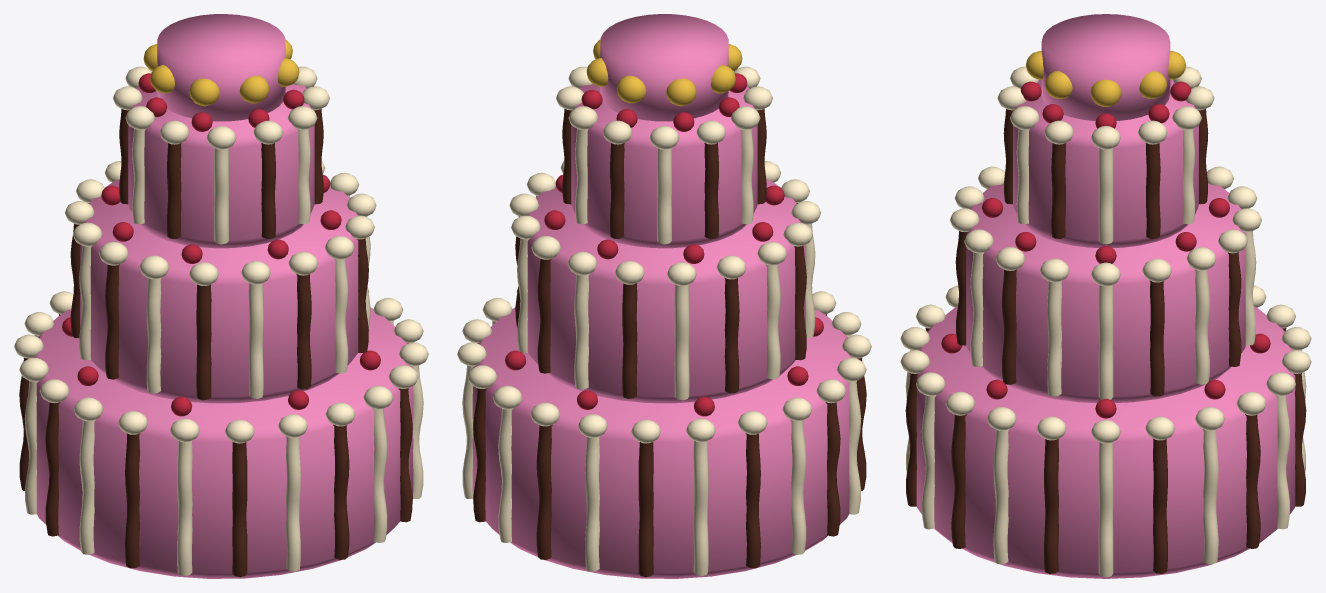
File: marzipan-mascarpone-meringue-madness.glb
The picture shows the model from 3 angles, left to right: view 1: azimuth 30°, elevation 25°; view 2: azimuth 150°, elevation 25°; view 3: azimuth 270°, elevation 25°; orthographic projection.
Parts seen in each view (by area): view 1: edible_meringue_tier, edible_meringue_tier.001, edible_meringue_tier.002, edible_topper, edible_meringue_ribbon.015, edible_meringue_ribbon.014, edible_meringue_ribbon.016, edible_meringue_ribbon.013, edible_meringue_ribbon.017, edible_meringue_ribbon.012, edible_meringue_ribbon.033, edible_meringue_ribbon.034 (+51 smaller); view 2: edible_meringue_tier, edible_meringue_tier.001, edible_meringue_tier.002, edible_topper, edible_meringue_ribbon.007, edible_meringue_ribbon.008, edible_meringue_ribbon.006, edible_meringue_ribbon.009, edible_meringue_ribbon.005, edible_meringue_ribbon.010, edible_meringue_ribbon.028, edible_meringue_ribbon.027 (+51 smaller); view 3: edible_meringue_tier, edible_meringue_tier.001, edible_meringue_tier.002, edible_topper, edible_meringue_ribbon, edible_meringue_ribbon.001, edible_meringue_ribbon.021, edible_meringue_ribbon.002, edible_meringue_ribbon.020, edible_meringue_ribbon.022, edible_meringue_ribbon.003, edible_meringue_ribbon.019 (+49 smaller).
Boxes of the visible parts, box(x1,y1,x2,y2) form: edible_meringue_tier: box(33, 307, 413, 578); edible_meringue_tier.001: box(80, 180, 358, 403); edible_meringue_tier.002: box(128, 84, 314, 248); edible_topper: box(157, 14, 285, 121); edible_meringue_ribbon.015: box(232, 442, 247, 577); edible_meringue_ribbon.014: box(177, 440, 192, 575); edible_meringue_ribbon.016: box(286, 436, 300, 571); edible_meringue_ribbon.013: box(125, 433, 140, 568); edible_meringue_ribbon.017: box(333, 424, 349, 559); edible_meringue_ribbon.012: box(79, 419, 95, 554); edible_meringue_ribbon.033: box(196, 284, 211, 400); edible_meringue_ribbon.034: box(248, 283, 263, 398); edible_meringue_tier: box(472, 307, 852, 578); edible_meringue_tier.001: box(527, 180, 805, 403); edible_meringue_tier.002: box(571, 84, 757, 248); edible_topper: box(600, 14, 728, 121); edible_meringue_ribbon.007: box(638, 442, 653, 577); edible_meringue_ribbon.008: box(693, 440, 708, 575); edible_meringue_ribbon.006: box(585, 436, 599, 571); edible_meringue_ribbon.009: box(745, 433, 760, 568); edible_meringue_ribbon.005: box(536, 424, 552, 559); edible_meringue_ribbon.010: box(790, 419, 806, 554); edible_meringue_ribbon.028: box(674, 284, 689, 400); edible_meringue_ribbon.027: box(622, 283, 637, 398); edible_meringue_tier: box(916, 306, 1295, 578); edible_meringue_tier.001: box(966, 183, 1245, 402); edible_meringue_tier.002: box(1013, 79, 1198, 247); edible_topper: box(1041, 14, 1170, 120); edible_meringue_ribbon: box(1098, 442, 1113, 577); edible_meringue_ribbon.001: box(1153, 438, 1167, 573); edible_meringue_ribbon.021: box(1044, 438, 1058, 573); edible_meringue_ribbon.002: box(1202, 429, 1218, 564); edible_meringue_ribbon.020: box(993, 429, 1009, 564); edible_meringue_ribbon.022: box(1098, 285, 1113, 399); edible_meringue_ribbon.003: box(1245, 414, 1260, 548); edible_meringue_ribbon.019: box(951, 414, 966, 548).
Bounding box in the file's own units: 0.776 × 0.95 × 0.7687.
